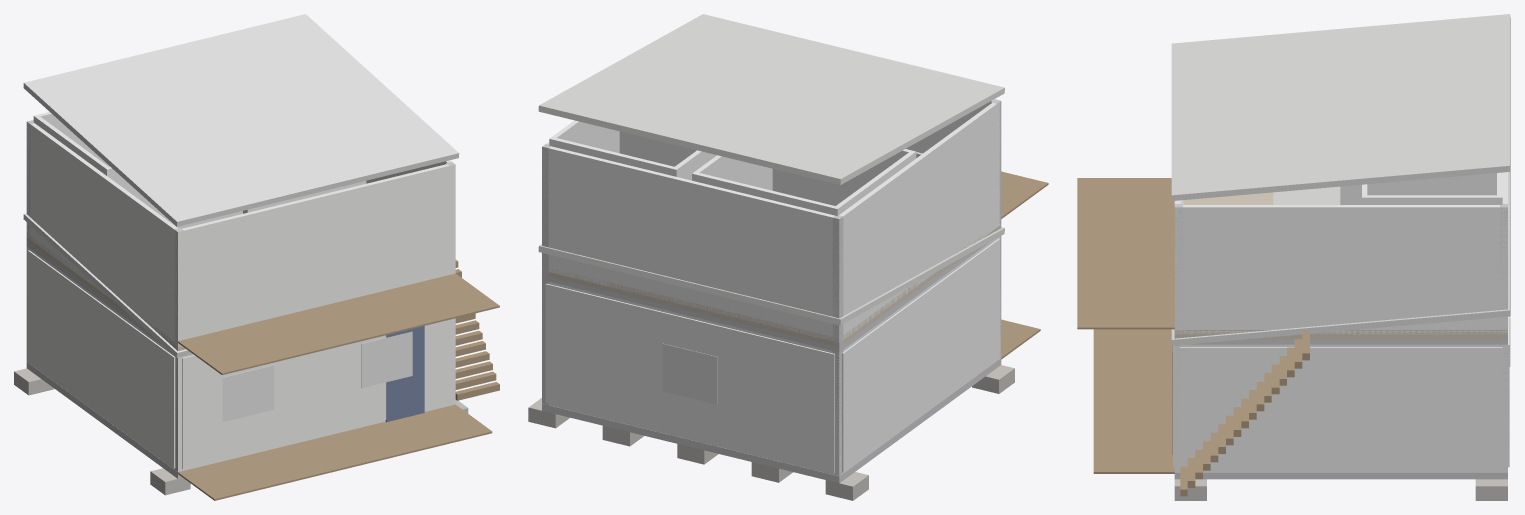
Rendered from Duplex-20-SlopingRoof+FullSolar-LOD3.glb.
3 views of the same model, side by side, from view 1: azimuth 30°, elevation 25°; view 2: azimuth 150°, elevation 25°; view 3: azimuth 270°, elevation 25° (orthographic). The views are drawn at different scales.
Parts seen in each view (by area): view 1: RoofSlopingUpgrade.001, ExteriorShellUpper, ExteriorPanelsStandard, BalconyUpper, BalconyGround, WindowsStandard, StaircaseExternal, ExteriorShell, EntryDoor, BedroomUpper, FoundationBlocks, RoofSlopingUpgrade (+4 smaller); view 2: ExteriorShellUpper, ExteriorPanelsStandard, RoofSlopingUpgrade.001, BedroomUpper, StudyUpper, VerticalStructure, FoundationBlocks, RoofSlopingUpgrade, FloorUpper, BaseFrame, ExteriorShell, WindowsStandard (+3 smaller); view 3: RoofSlopingUpgrade.001, ExteriorShellUpper, ExteriorPanelsStandard, BalconyUpper, BalconyGround, RoofSlopingUpgrade, StaircaseExternal, StudyUpper, ExteriorShell, FloorUpper, BaseFrame, TopFrame (+1 smaller).
Part boxes in pixels (x1,y1,x2,y2): RoofSlopingUpgrade.001: (23, 14, 459, 226); ExteriorShellUpper: (26, 122, 455, 347); ExteriorPanelsStandard: (28, 250, 452, 469); BalconyUpper: (178, 273, 499, 374); BalconyGround: (178, 404, 492, 500); WindowsStandard: (222, 331, 412, 421); StaircaseExternal: (455, 260, 499, 400); ExteriorShell: (26, 246, 455, 472); EntryDoor: (385, 326, 424, 422); BedroomUpper: (33, 112, 242, 228); FoundationBlocks: (14, 368, 468, 495); RoofSlopingUpgrade: (23, 213, 192, 357); ExteriorShellUpper: (542, 100, 1000, 342); ExteriorPanelsStandard: (545, 238, 999, 473); RoofSlopingUpgrade.001: (538, 14, 1004, 185); BedroomUpper: (692, 149, 916, 215); StudyUpper: (549, 120, 716, 180); VerticalStructure: (542, 99, 1001, 475); FoundationBlocks: (528, 365, 1014, 500); RoofSlopingUpgrade: (538, 227, 1004, 325); FloorUpper: (548, 226, 999, 347); BaseFrame: (542, 358, 1001, 483); ExteriorShell: (543, 236, 1001, 476); WindowsStandard: (662, 343, 717, 404); RoofSlopingUpgrade.001: (1171, 14, 1510, 200); ExteriorShellUpper: (1174, 172, 1507, 334); ExteriorPanelsStandard: (1173, 316, 1509, 470); BalconyUpper: (1077, 178, 1174, 329); BalconyGround: (1093, 329, 1174, 473); RoofSlopingUpgrade: (1171, 172, 1510, 345); StaircaseExternal: (1180, 330, 1309, 496); StudyUpper: (1362, 172, 1502, 204); ExteriorShell: (1174, 344, 1507, 471); FloorUpper: (1174, 192, 1507, 339); BaseFrame: (1174, 472, 1507, 479); TopFrame: (1187, 339, 1507, 344).
Bounding box in the file's own units: 7.94 × 6.72 × 8.01.
